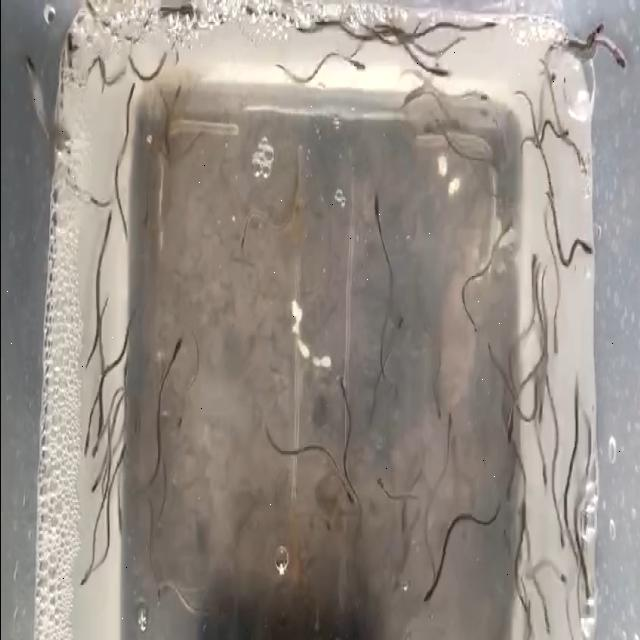inactive_glass_eel: (412, 550, 443, 607), (423, 392, 448, 446), (332, 351, 358, 398), (388, 298, 412, 348), (364, 466, 388, 516), (546, 105, 572, 150), (498, 406, 522, 454), (542, 331, 564, 379), (21, 51, 42, 98), (234, 210, 256, 254), (365, 194, 391, 230), (470, 16, 500, 46), (166, 327, 186, 371), (494, 468, 516, 508), (438, 406, 458, 449), (78, 547, 98, 590), (580, 16, 606, 48), (56, 34, 79, 70), (342, 475, 362, 516), (602, 49, 624, 85), (98, 200, 116, 244), (461, 81, 492, 106), (320, 508, 338, 546), (76, 430, 95, 463), (515, 496, 530, 534), (535, 459, 551, 492), (351, 52, 371, 78), (110, 501, 124, 538), (582, 237, 598, 269), (431, 59, 452, 82), (114, 438, 129, 468), (556, 517, 570, 549), (92, 424, 106, 456), (550, 570, 566, 594), (124, 84, 136, 112), (92, 469, 103, 492), (538, 394, 548, 414)
